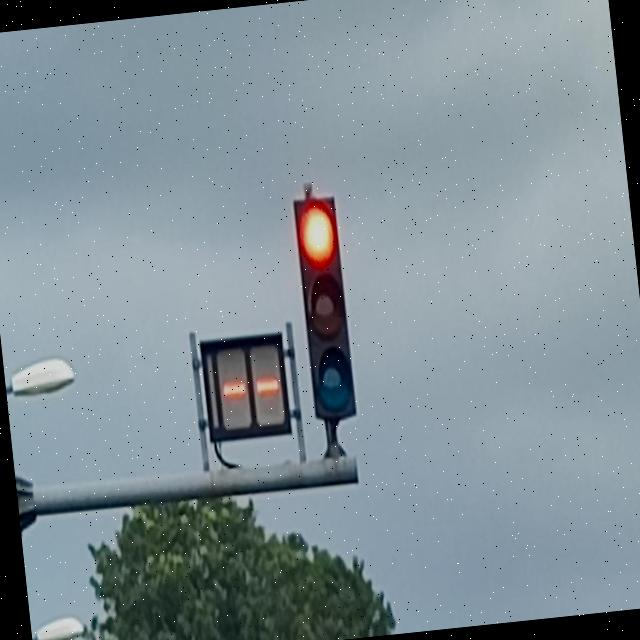red_light: (294, 196, 358, 421)
